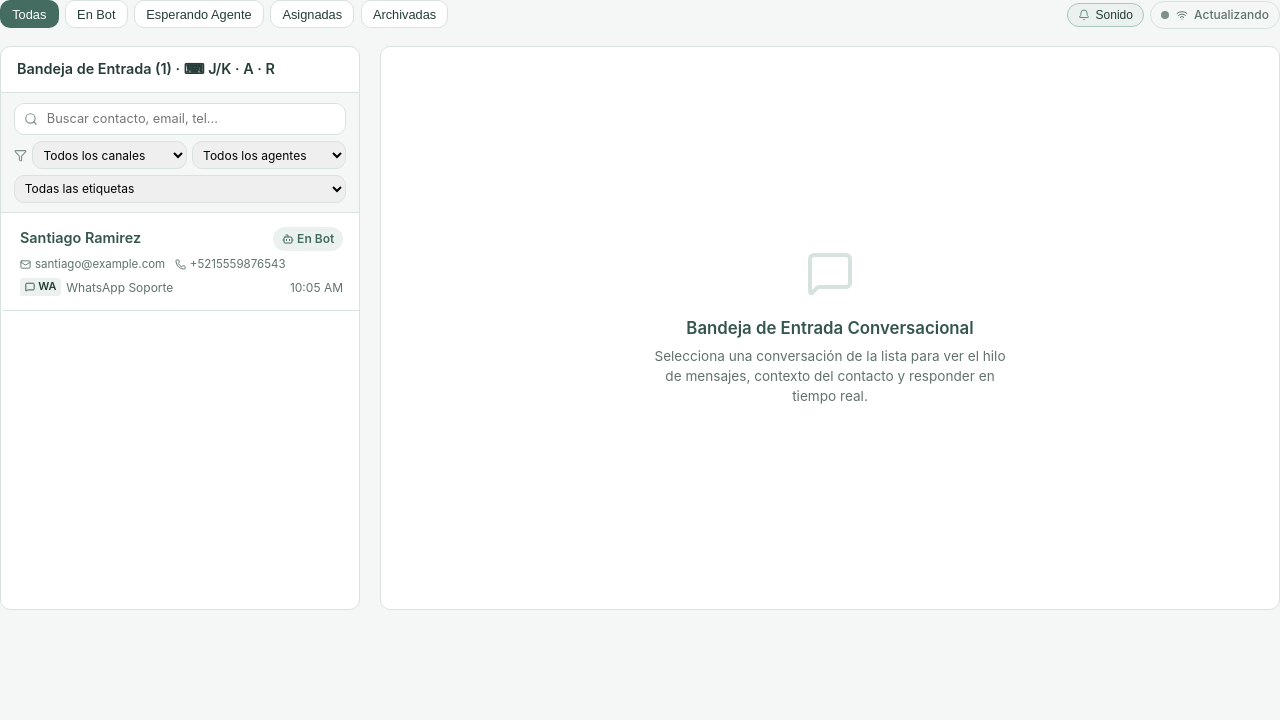
ConversationBotHandover in ConversationsView › allows resuming the bot from the paused-bot-banner action
The width and height of the screenshot is (1280, 720).
Click the element with test id "conversation-item".
click(180, 262)  # box [1,213,359,311]
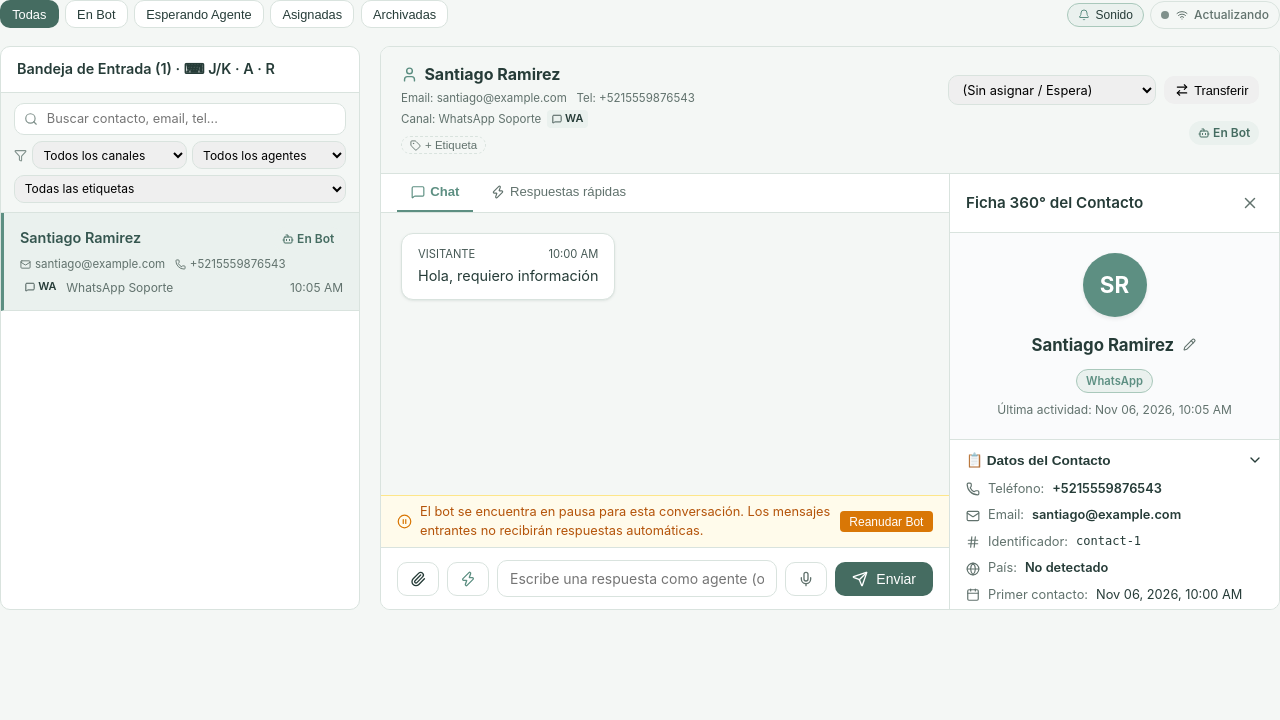
Result: the element with test id "paused-bot-banner" is shown at [381,495,949,547]
Click the button "Reanudar Bot".
click(886, 522)  # box [840,512,933,532]
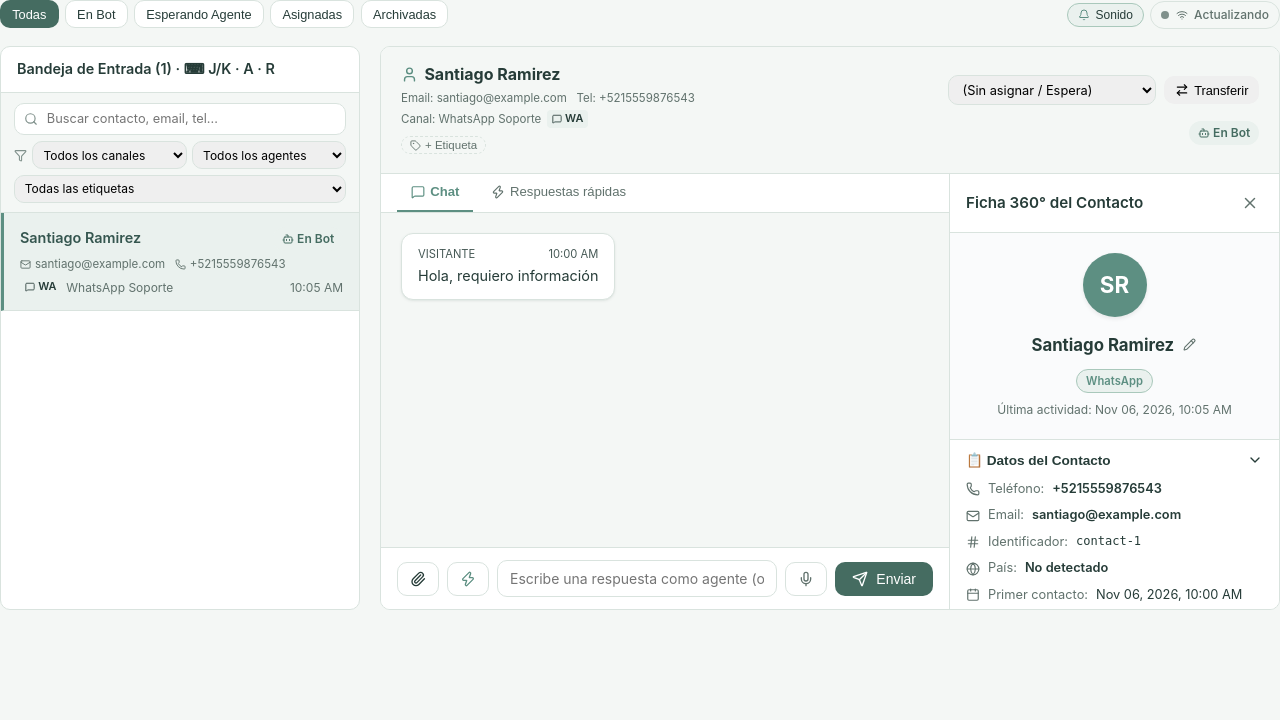
Result: the element with test id "paused-bot-banner" is gone
